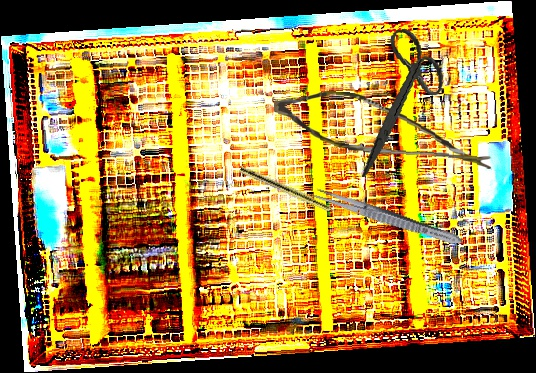Dressing Forceps: (307, 184, 465, 250)
Handpiece: (238, 165, 350, 222)
Iris Scissors: (339, 24, 457, 178)
Micro Scissor: (270, 87, 500, 170)
